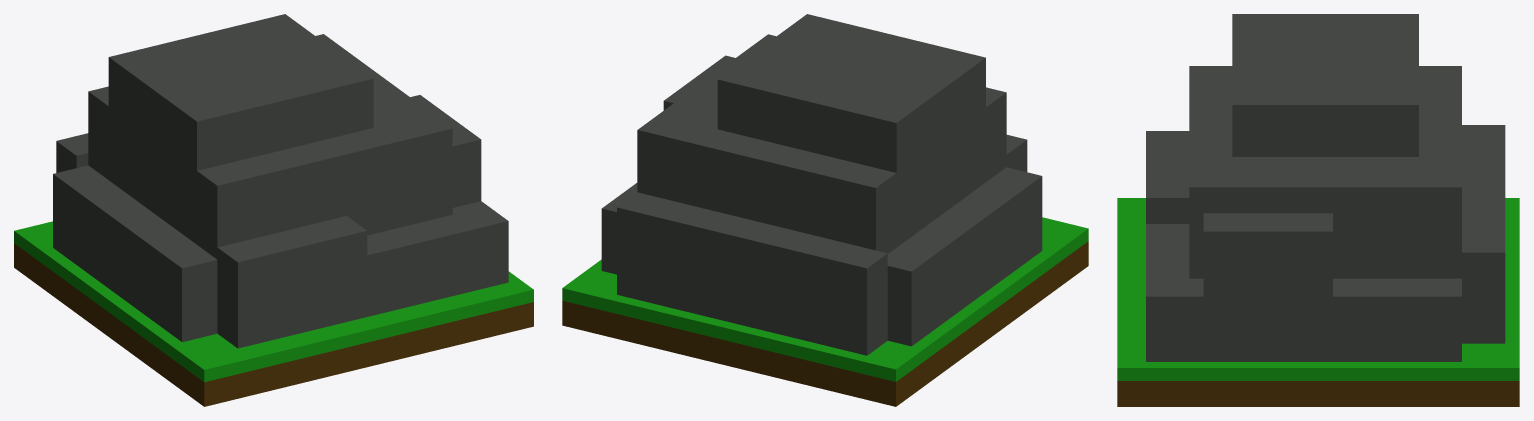
The model's file is Grass.gltf.
The picture shows the model from 3 angles, left to right: view 1: azimuth 30°, elevation 25°; view 2: azimuth 150°, elevation 25°; view 3: azimuth 270°, elevation 25°; orthographic projection. The views are drawn at different scales.
Visible parts, largest first — view 1: Layer.2, Layer.1, Layer.3; view 2: Layer.2, Layer.1, Layer.3; view 3: Layer.2, Layer.1, Layer.3.
Boxes of the visible parts, <box> form: Layer.2: <box>53,14,508,348</box>; Layer.1: <box>14,228,533,406</box>; Layer.3: <box>14,221,533,382</box>; Layer.2: <box>601,14,1042,355</box>; Layer.1: <box>562,224,1088,406</box>; Layer.3: <box>562,217,1088,381</box>; Layer.2: <box>1146,14,1505,361</box>; Layer.1: <box>1117,204,1519,406</box>; Layer.3: <box>1117,198,1519,380</box>.
Size of the model in its own units: 28 by 19 by 28.
1 material, 1 textured.
